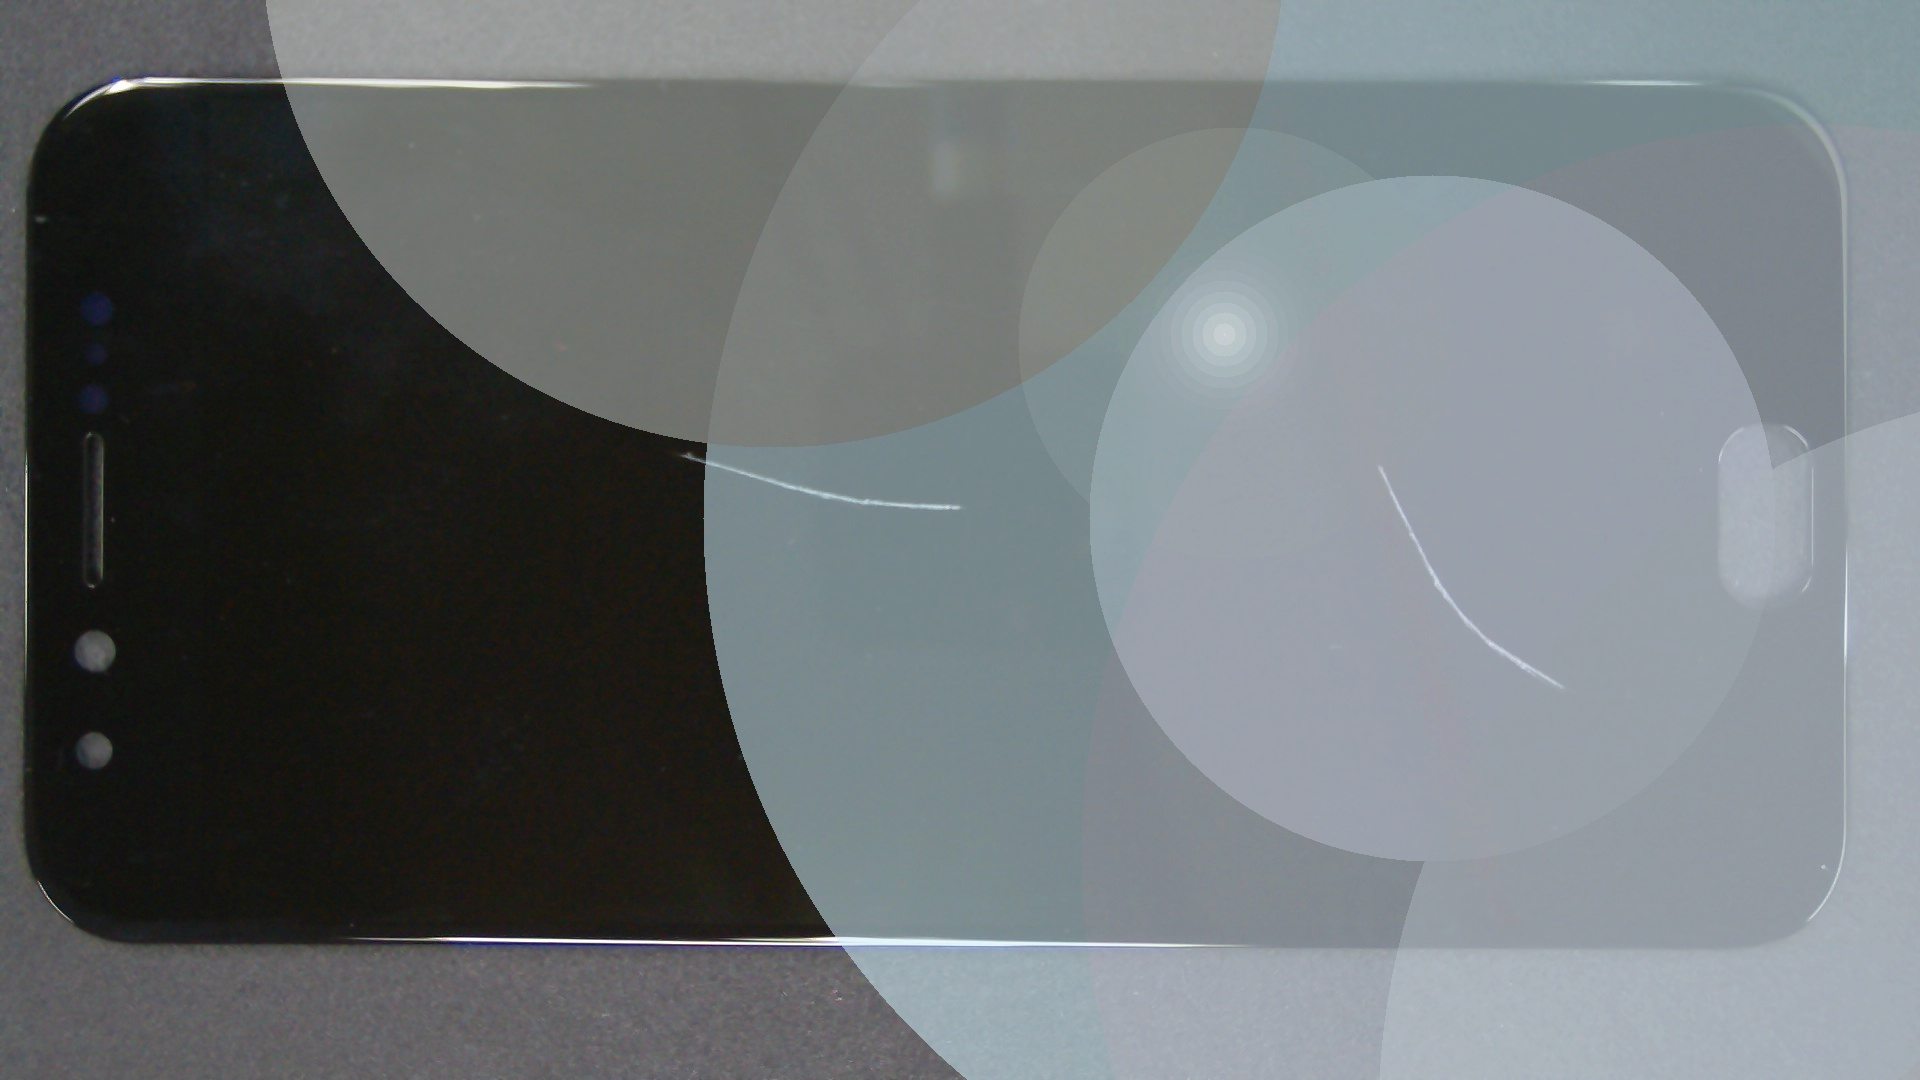oil: (691, 231, 1920, 695), (345, 225, 1033, 676)
